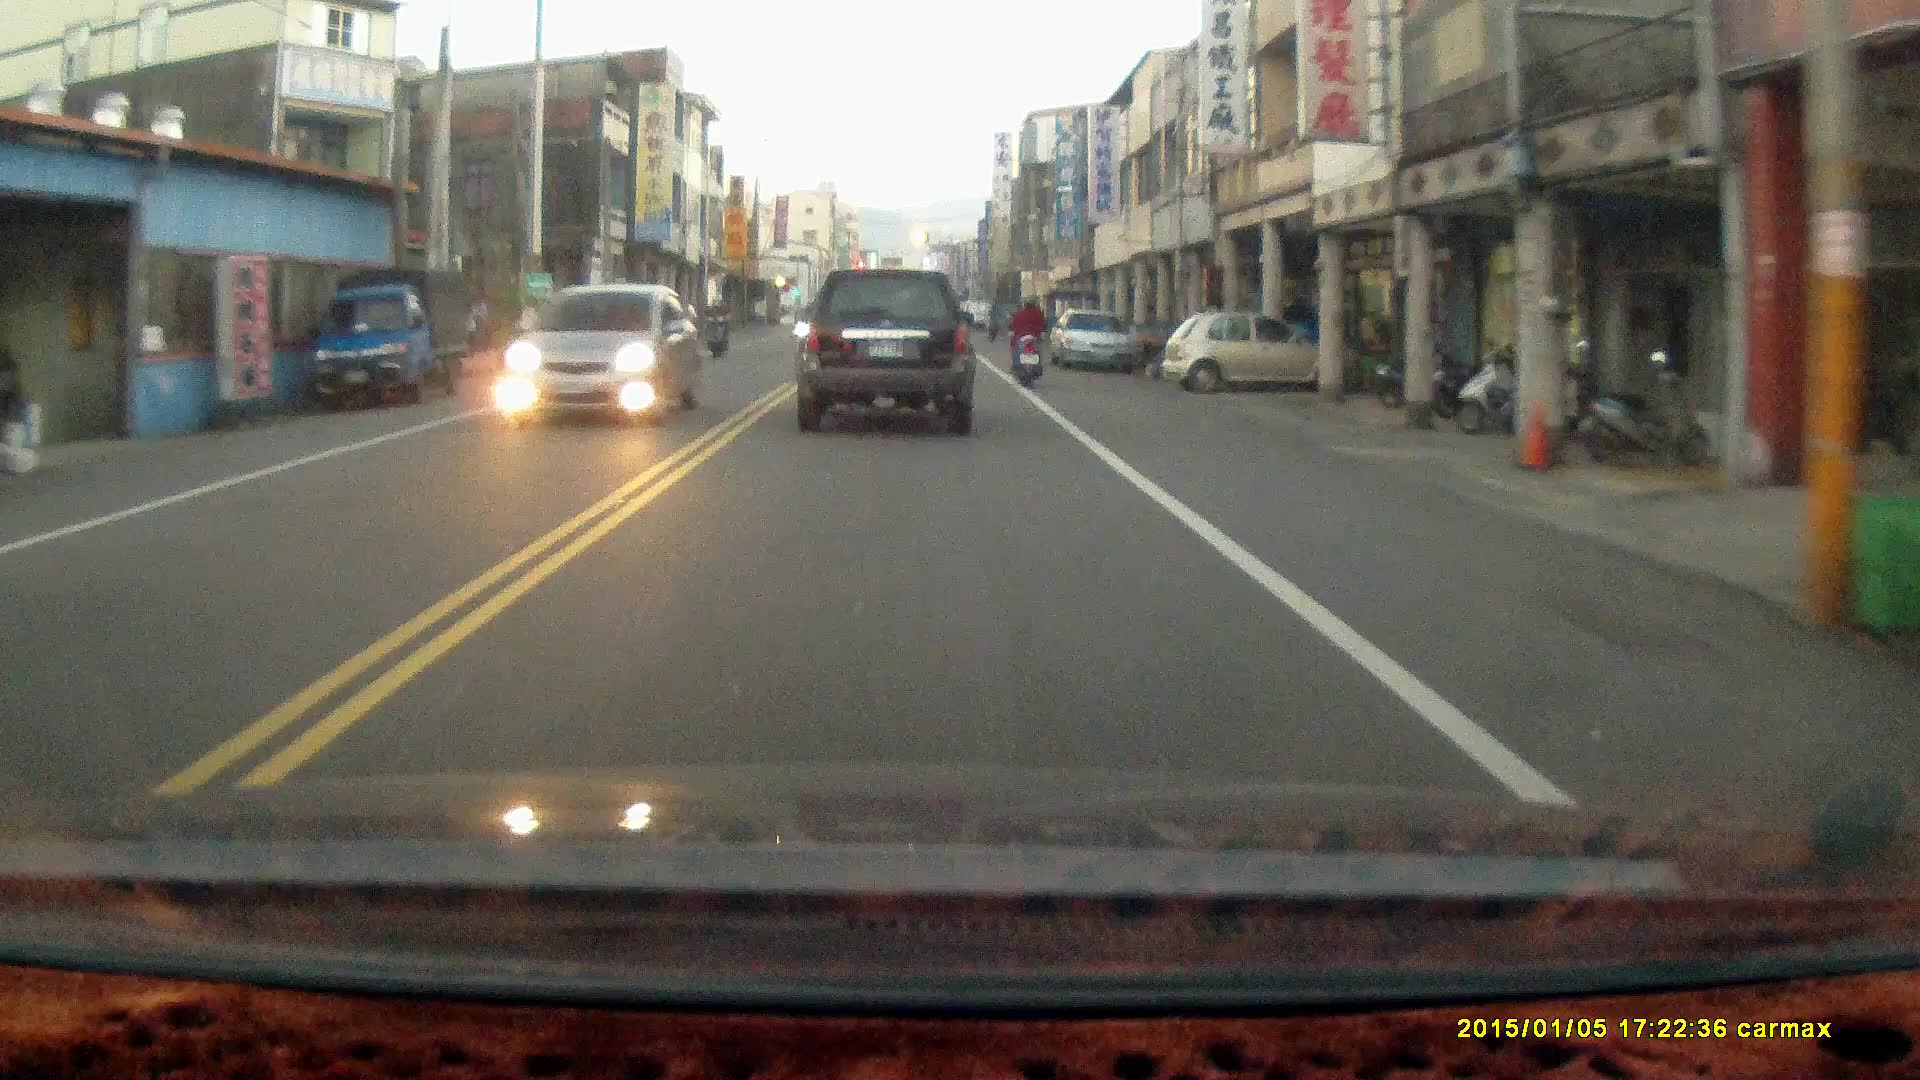rider: (1008, 291, 1046, 387), (701, 296, 733, 360)
vehicle: (794, 265, 977, 439), (506, 283, 703, 425), (304, 263, 475, 411), (1166, 308, 1341, 396), (1051, 313, 1139, 372)
